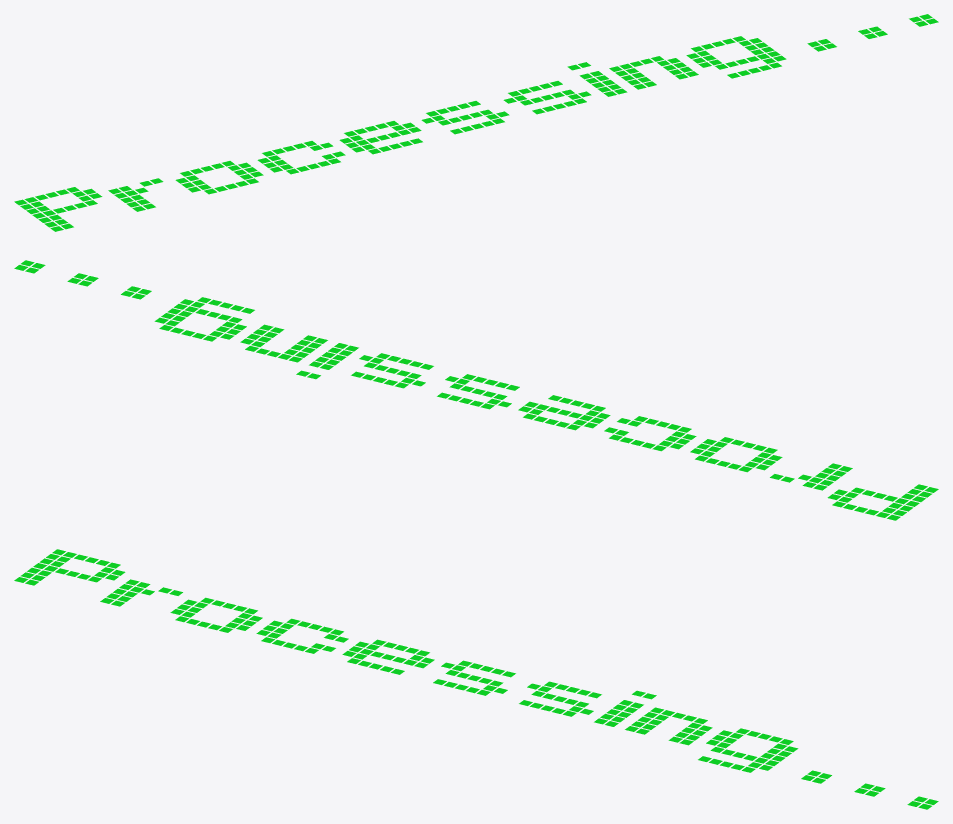
The picture shows the model from 3 angles, top to bottom: view 1: azimuth 30°, elevation 25°; view 2: azimuth 150°, elevation 25°; view 3: azimuth 330°, elevation 25°; orthographic projection. The views are drawn at different scales.
Parts seen in each view (by area): view 1: Text; view 2: Text; view 3: Text.
Boxes of the visible parts, x1,y1,x2,y2 form: Text: [14, 14, 938, 231]; Text: [14, 260, 938, 520]; Text: [14, 549, 938, 809].
Bounding box in the file's own units: 696 × 1.19e-05 × 73.25.
